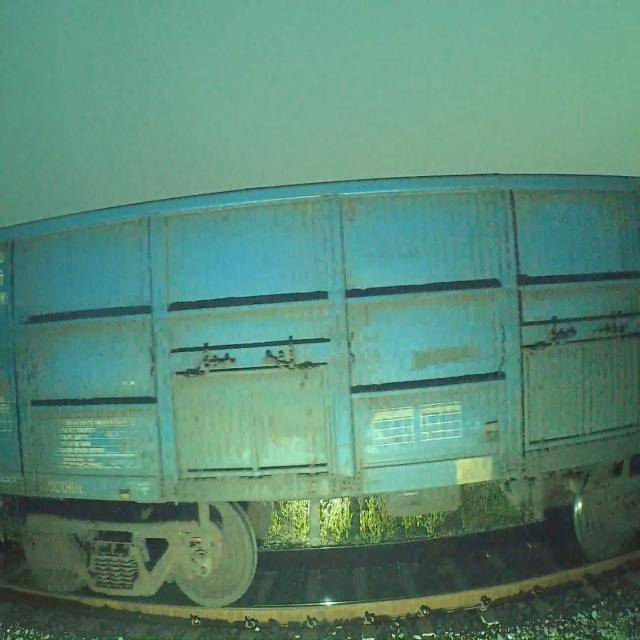WAgon-uic: (0, 165, 640, 617)
